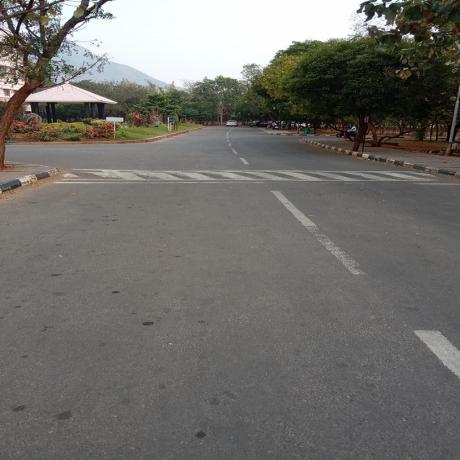Speed Bump: (63, 169, 428, 184)
